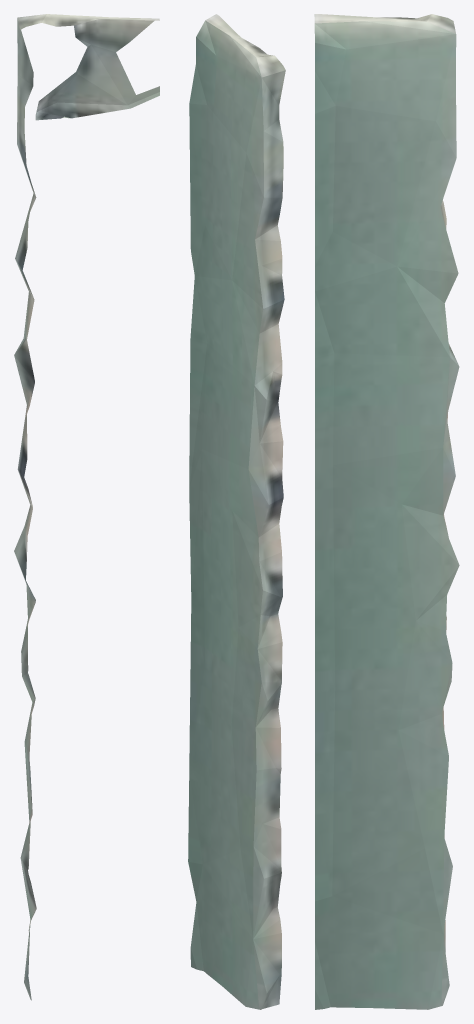
File: Tile_+011_+009_L20_000000230.glb
The picture shows the model from 3 angles, left to right: view 1: azimuth 90°, elevation 25°; view 2: azimuth 210°, elevation 25°; view 3: azimuth 270°, elevation 25°; orthographic projection. The views are drawn at different scales.
Parts seen in each view (by area): view 1: rtc; view 2: rtc; view 3: rtc.
Boxes of the visible parts, x1,y1,x2,y2 form: rtc: [14, 14, 159, 1000]; rtc: [188, 14, 285, 1009]; rtc: [314, 14, 459, 1009].
Size of the model in its own units: 0.8986 by 25.12 by 3.36.
Materials: 1 (1 with a texture image).
